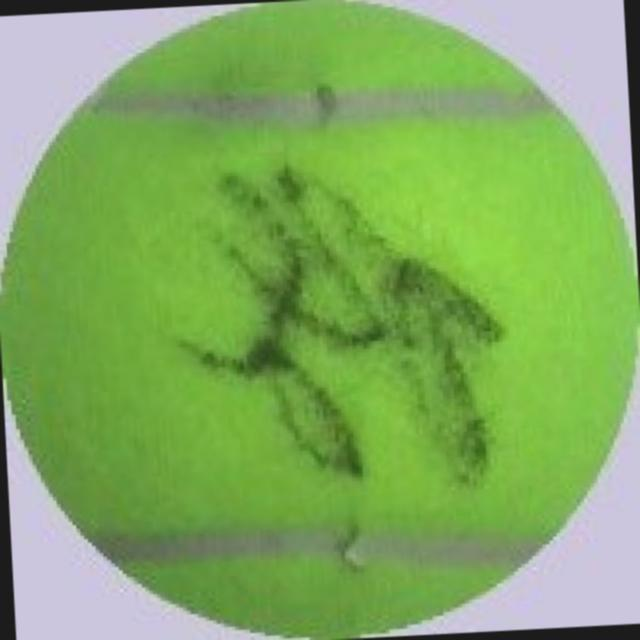Tennis Ball: (0, 1, 640, 640)
